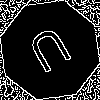U: (25, 25, 79, 82)
